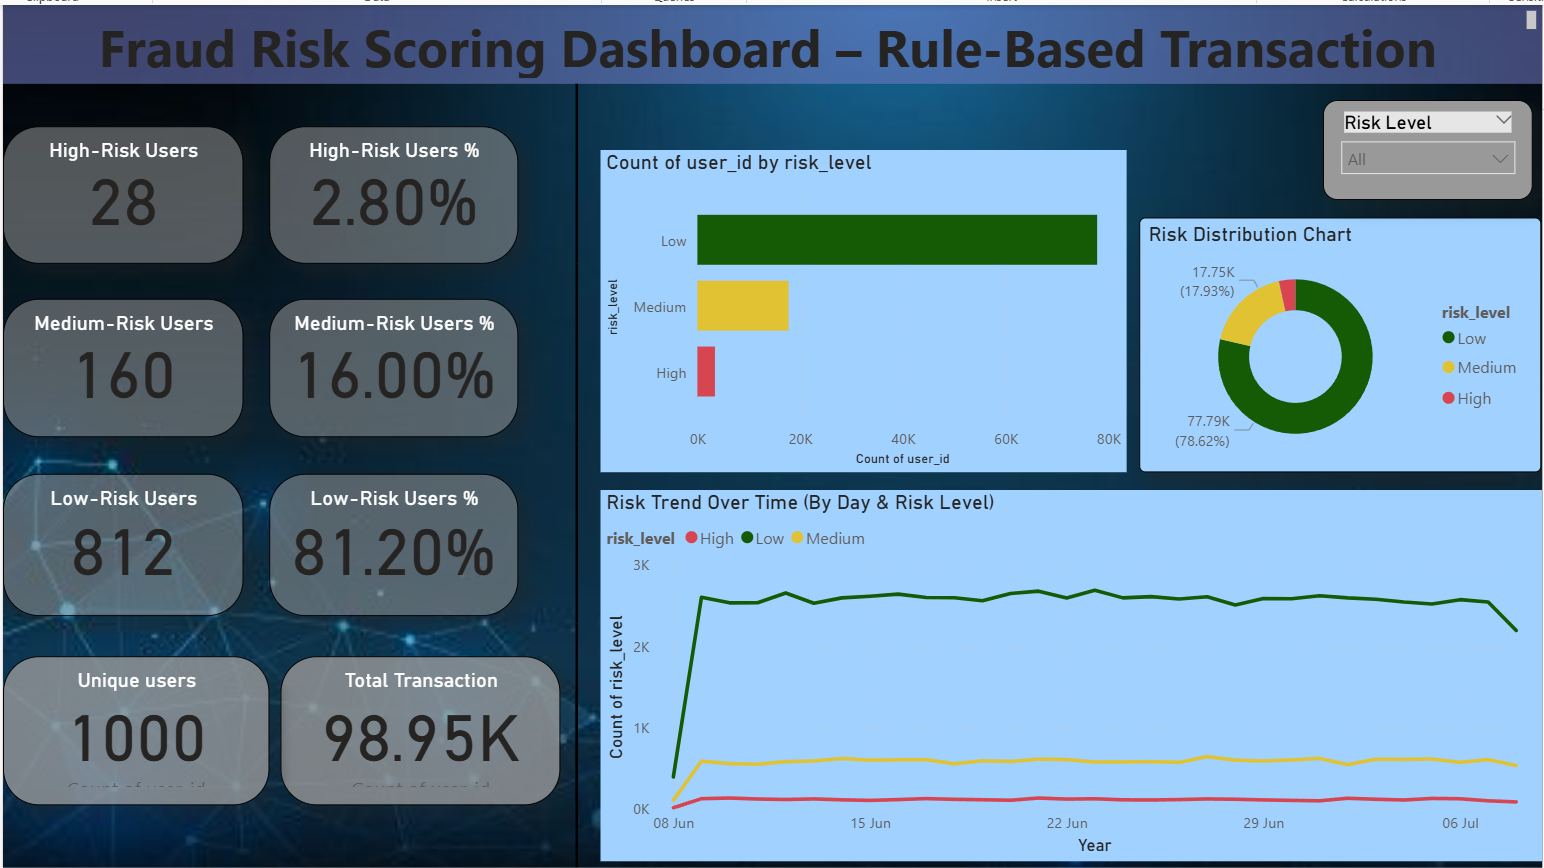

What the dashboard file says about the page in this screenshot:
{"tool":"powerbi","page":{"name":"Page 1","canvas":[1280,720],"ordinal":0},"visuals":[{"type":"textbox","box":[0,0,1279.8,65.9],"z":0},{"type":"card","title":"Total Transaction","fields":{"Values":["CountNonNull(transactions_with_risk1.user_id)"]},"box":[230.8,541.7,232.9,123.7],"z":1000},{"type":"card","title":"Unique users","fields":{"Values":["Count(transactions_with_risk1.user_id)"]},"box":[0,541.7,221.4,123.7],"z":2000},{"type":"donutChart","title":" Risk Distribution Chart","fields":{"Category":["transactions_with_risk1.risk_level"],"Y":["CountNonNull(transactions_with_risk1.user_id)"]},"box":[945,176.7,334.8,212.1],"z":3000},{"type":"barChart","fields":{"Y":["CountNonNull(transactions_with_risk1.user_id)"],"Category":["transactions_with_risk1.risk_level"]},"box":[497,120.6,437.7,268.2],"z":4000},{"type":"slicer","fields":{"Values":["transactions_with_risk1.risk_level"]},"box":[1097.9,79,174.7,83.2],"z":5000},{"type":"card","title":"High-Risk Users","fields":{"Values":["transactions_with_risk1.High Risk Users"]},"box":[0,100.8,199.6,114.4],"z":6000},{"type":"card","title":"Medium-Risk Users","fields":{"Values":["transactions_with_risk1.medium_risk_users"]},"box":[0,244.3,199.6,115.4],"z":7000},{"type":"card","title":"High-Risk Users %","fields":{"Values":["transactions_with_risk1.% high Risk"]},"box":[221.4,100.8,206.9,114.4],"z":8000},{"type":"card","title":"Medium-Risk Users %","fields":{"Values":["transactions_with_risk1.% medium Risk"]},"box":[221.4,244.3,206.9,115.4],"z":9000},{"type":"card","title":"Low-Risk Users","fields":{"Values":["transactions_with_risk1.low_risk_users"]},"box":[0,389.9,199.6,118.5],"z":10000},{"type":"card","title":"Low-Risk Users %","fields":{"Values":["transactions_with_risk1.% Low Risk"]},"box":[221.4,389.9,206.9,118.5],"z":11000},{"type":"shape","box":[402.3,65.5,149.7,149.7],"z":12000},{"type":"shape","box":[402.3,215.2,149.7,149.7],"z":13000},{"type":"shape","box":[402.3,364.9,149.7,149.7],"z":14000},{"type":"shape","box":[402.3,514.6,149.7,149.7],"z":15000},{"type":"shape","box":[402.3,570.8,149.7,149.7],"z":16000},{"type":"lineChart","title":"Risk Trend Over Time (By Day & Risk Level)","fields":{"Series":["transactions_with_risk1.risk_level"],"Category":["transactions_with_risk1.timestamp.Variation.Date Hierarchy.Year","transactions_with_risk1.timestamp.Variation.Date Hierarchy.Quarter","transactions_with_risk1.timestamp.Variation.Date Hierarchy.Month","transactions_with_risk1.timestamp.Variation.Date Hierarchy.Day"],"Y":["CountNonNull(transactions_with_risk1.risk_level)"]},"box":[497,403.4,782.9,308.8],"z":16001}]}

Visuals, with their boxes in screenshot pixels (x1, y1, x2, y2):
textbox: box(0, 0, 1522, 78)
"Total Transaction" card: box(275, 644, 552, 792)
"Unique users" card: box(0, 644, 263, 792)
" Risk Distribution Chart" donutChart: box(1124, 210, 1522, 463)
barChart - CountNonNull(transactions_with_risk1.user_id) x transactions_with_risk1.risk_level: box(591, 143, 1112, 463)
slicer - transactions_with_risk1.risk_level: box(1306, 94, 1514, 193)
"High-Risk Users" card: box(0, 120, 237, 256)
"Medium-Risk Users" card: box(0, 291, 237, 428)
"High-Risk Users %" card: box(263, 120, 509, 256)
"Medium-Risk Users %" card: box(263, 291, 509, 428)
"Low-Risk Users" card: box(0, 464, 237, 605)
"Low-Risk Users %" card: box(263, 464, 509, 605)
shape: box(479, 78, 657, 256)
shape: box(479, 256, 657, 434)
shape: box(479, 434, 657, 612)
shape: box(479, 612, 657, 790)
shape: box(479, 679, 657, 857)
"Risk Trend Over Time (By Day & Risk Level)" lineChart: box(591, 480, 1523, 847)
